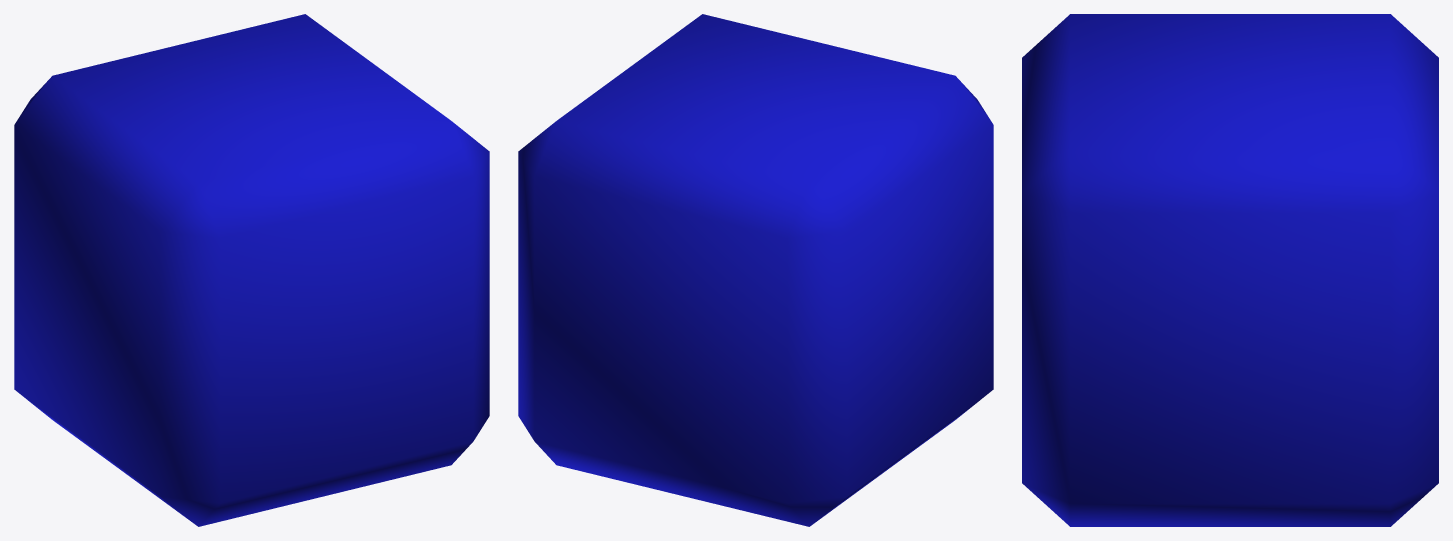
Rendered from enemy1.obj.
The picture shows the model from 3 angles, left to right: view 1: azimuth 30°, elevation 25°; view 2: azimuth 150°, elevation 25°; view 3: azimuth 270°, elevation 25°; orthographic projection. The views are drawn at different scales.
Parts seen in each view (by area): view 1: Cube; view 2: Cube; view 3: Cube.
Part boxes in pixels (x1,y1,x2,y2): Cube: (14,14,489,526); Cube: (518,14,993,526); Cube: (1022,14,1438,526).
Bounding box in the file's own units: 4 × 4 × 4.
